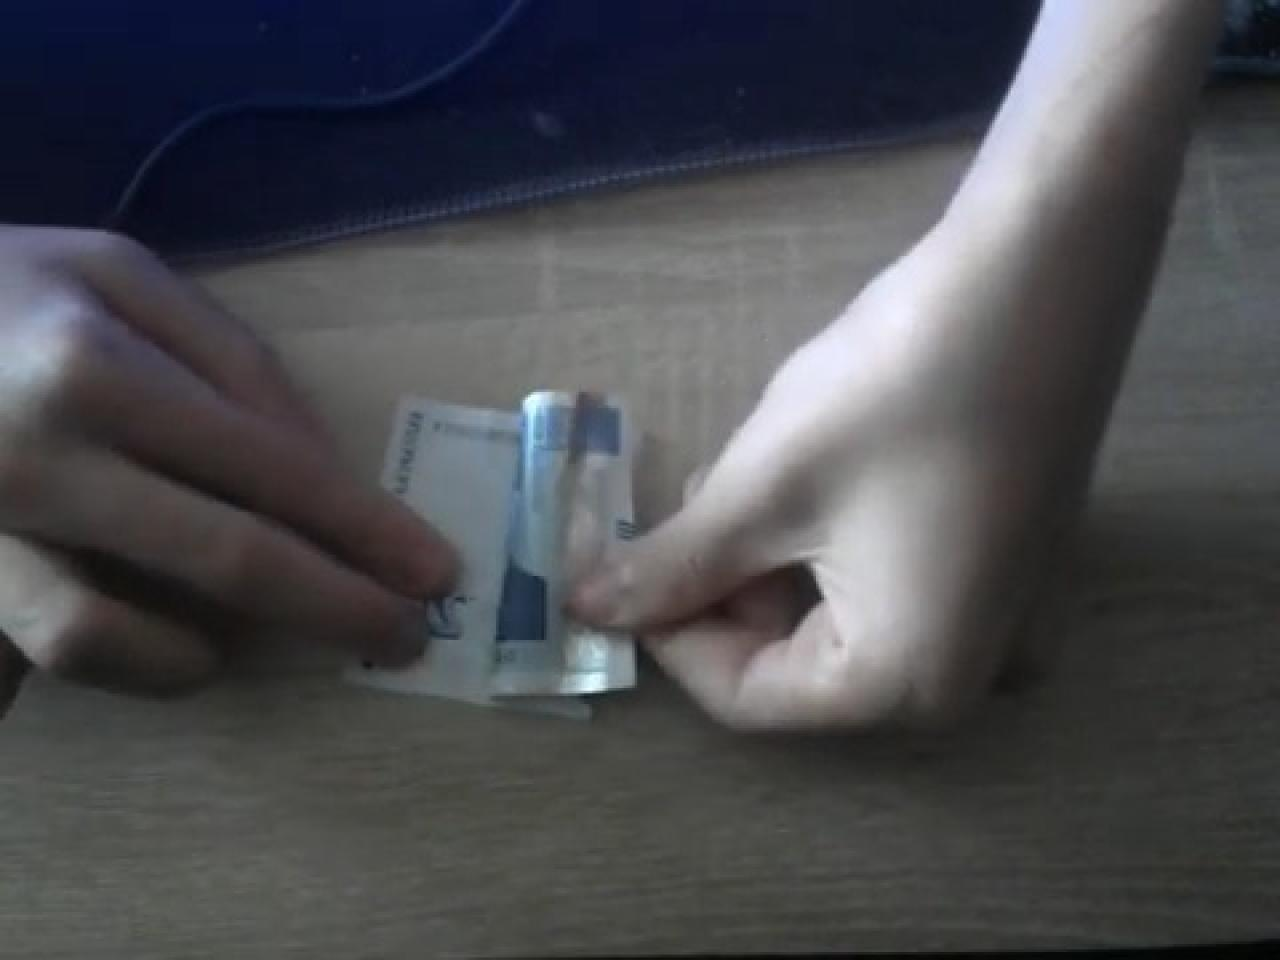20leva: (365, 392, 632, 720)
